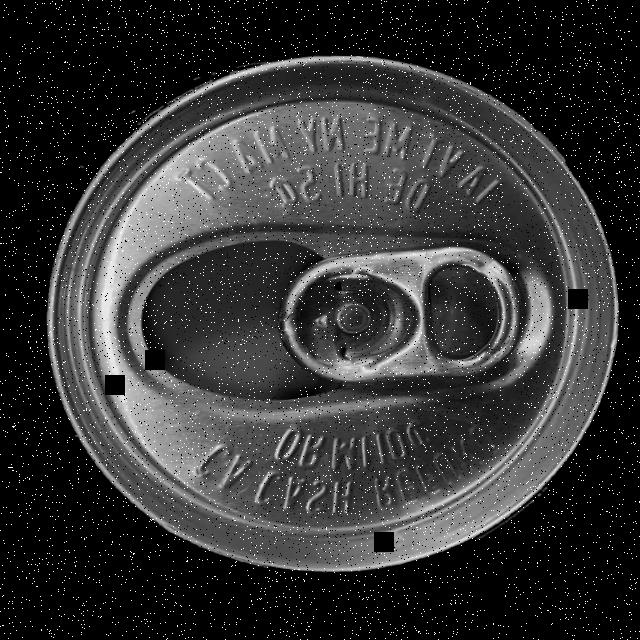can: (44, 48, 618, 576)
